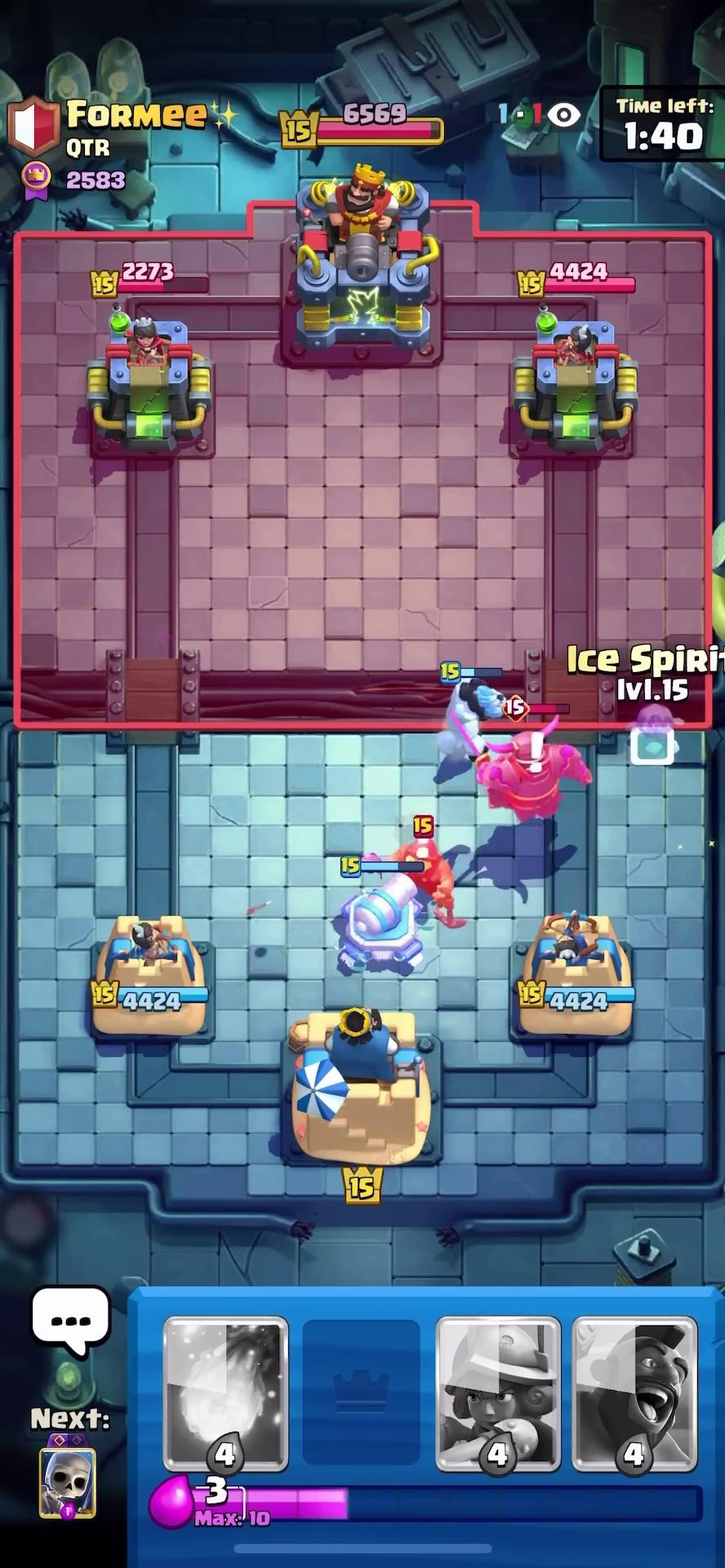cannon: (331, 858, 441, 976)
ice_golem: (431, 655, 514, 755)
